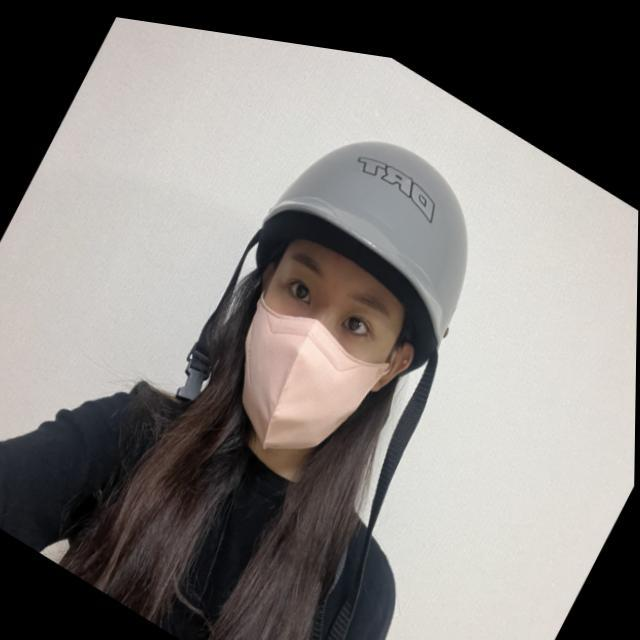Helmet: (207, 125, 481, 484)
